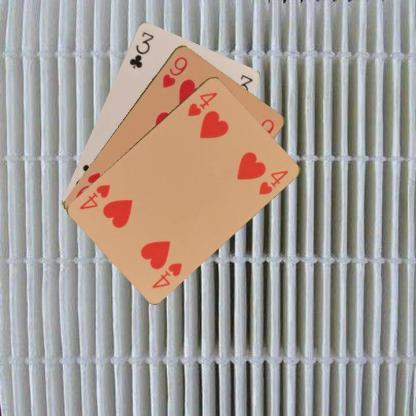3c: (126, 28, 155, 70)
4h: (149, 260, 184, 290), (185, 89, 219, 118)
9h: (159, 53, 189, 89)
